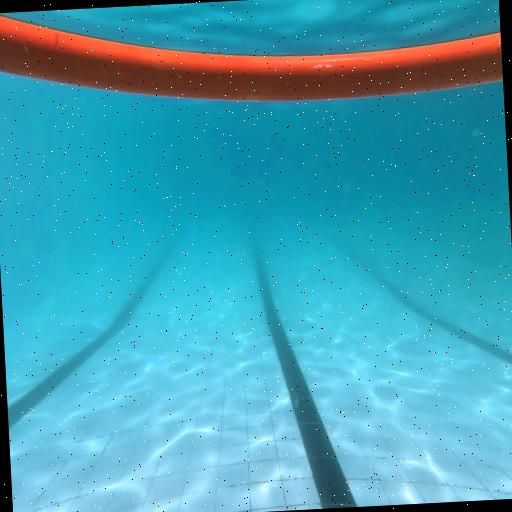upper_gate: (0, 0, 503, 115)
